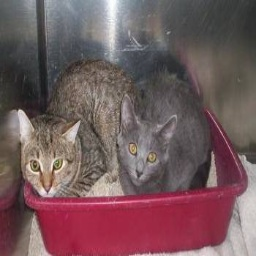cat: (18, 55, 213, 208)
